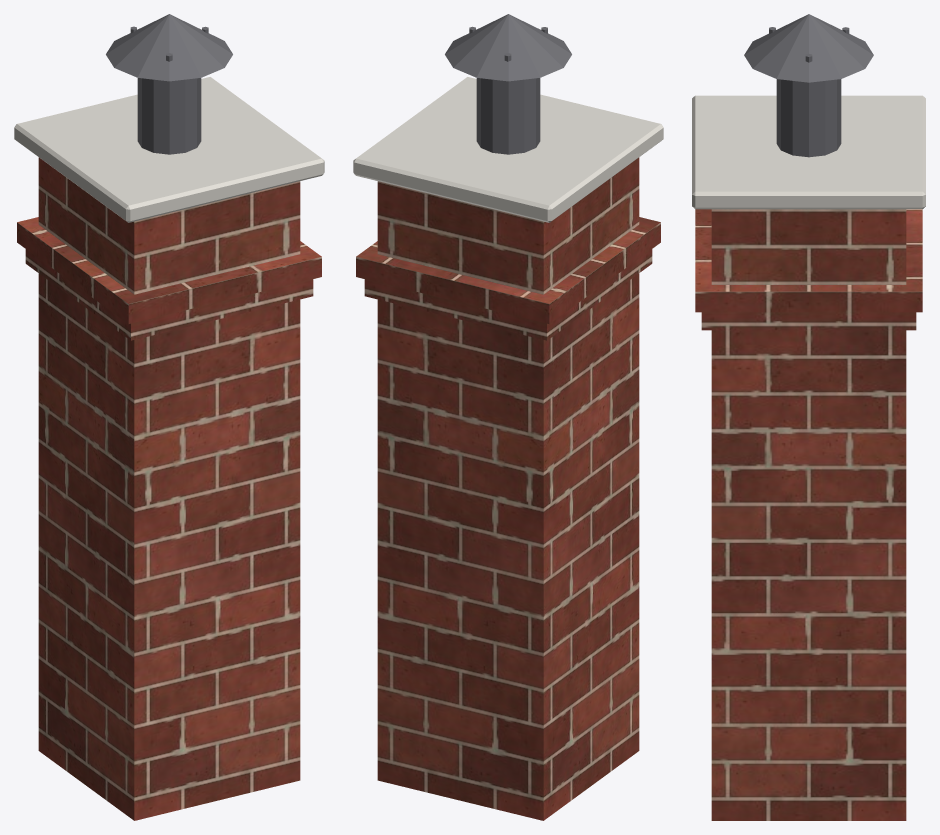
The model's file is chimney.glb.
3 renders of one model, left to right at view 1: azimuth 30°, elevation 25°; view 2: azimuth 150°, elevation 25°; view 3: azimuth 270°, elevation 25°, orthographic.
Visible parts, largest first — view 1: chimney_brick, chimney_cill, chimney_iron; view 2: chimney_brick, chimney_cill, chimney_iron; view 3: chimney_brick, chimney_cill, chimney_iron.
Part boxes in pixels (x1,y1,x2,y2): chimney_brick: [17, 157, 321, 820]; chimney_cill: [14, 77, 324, 222]; chimney_iron: [106, 14, 232, 154]; chimney_brick: [356, 157, 660, 820]; chimney_cill: [353, 77, 663, 222]; chimney_iron: [445, 14, 571, 154]; chimney_brick: [695, 209, 922, 820]; chimney_cill: [692, 95, 925, 209]; chimney_iron: [744, 14, 873, 157].
Bounding box in the file's own units: 0.72 × 2.6 × 0.72.
3 materials, 1 textured.
